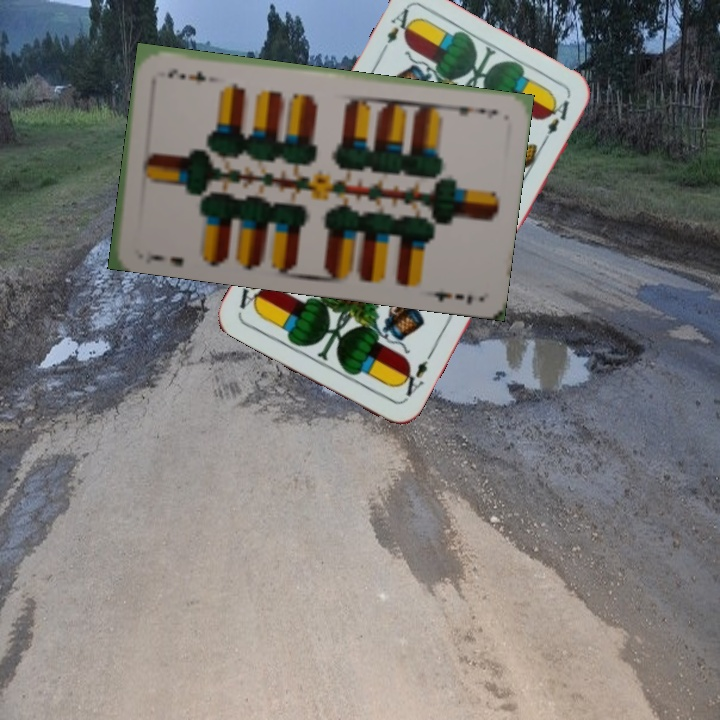E7: (447, 100, 500, 121), (143, 251, 186, 270)
EA: (376, 4, 417, 59), (394, 350, 434, 404)
